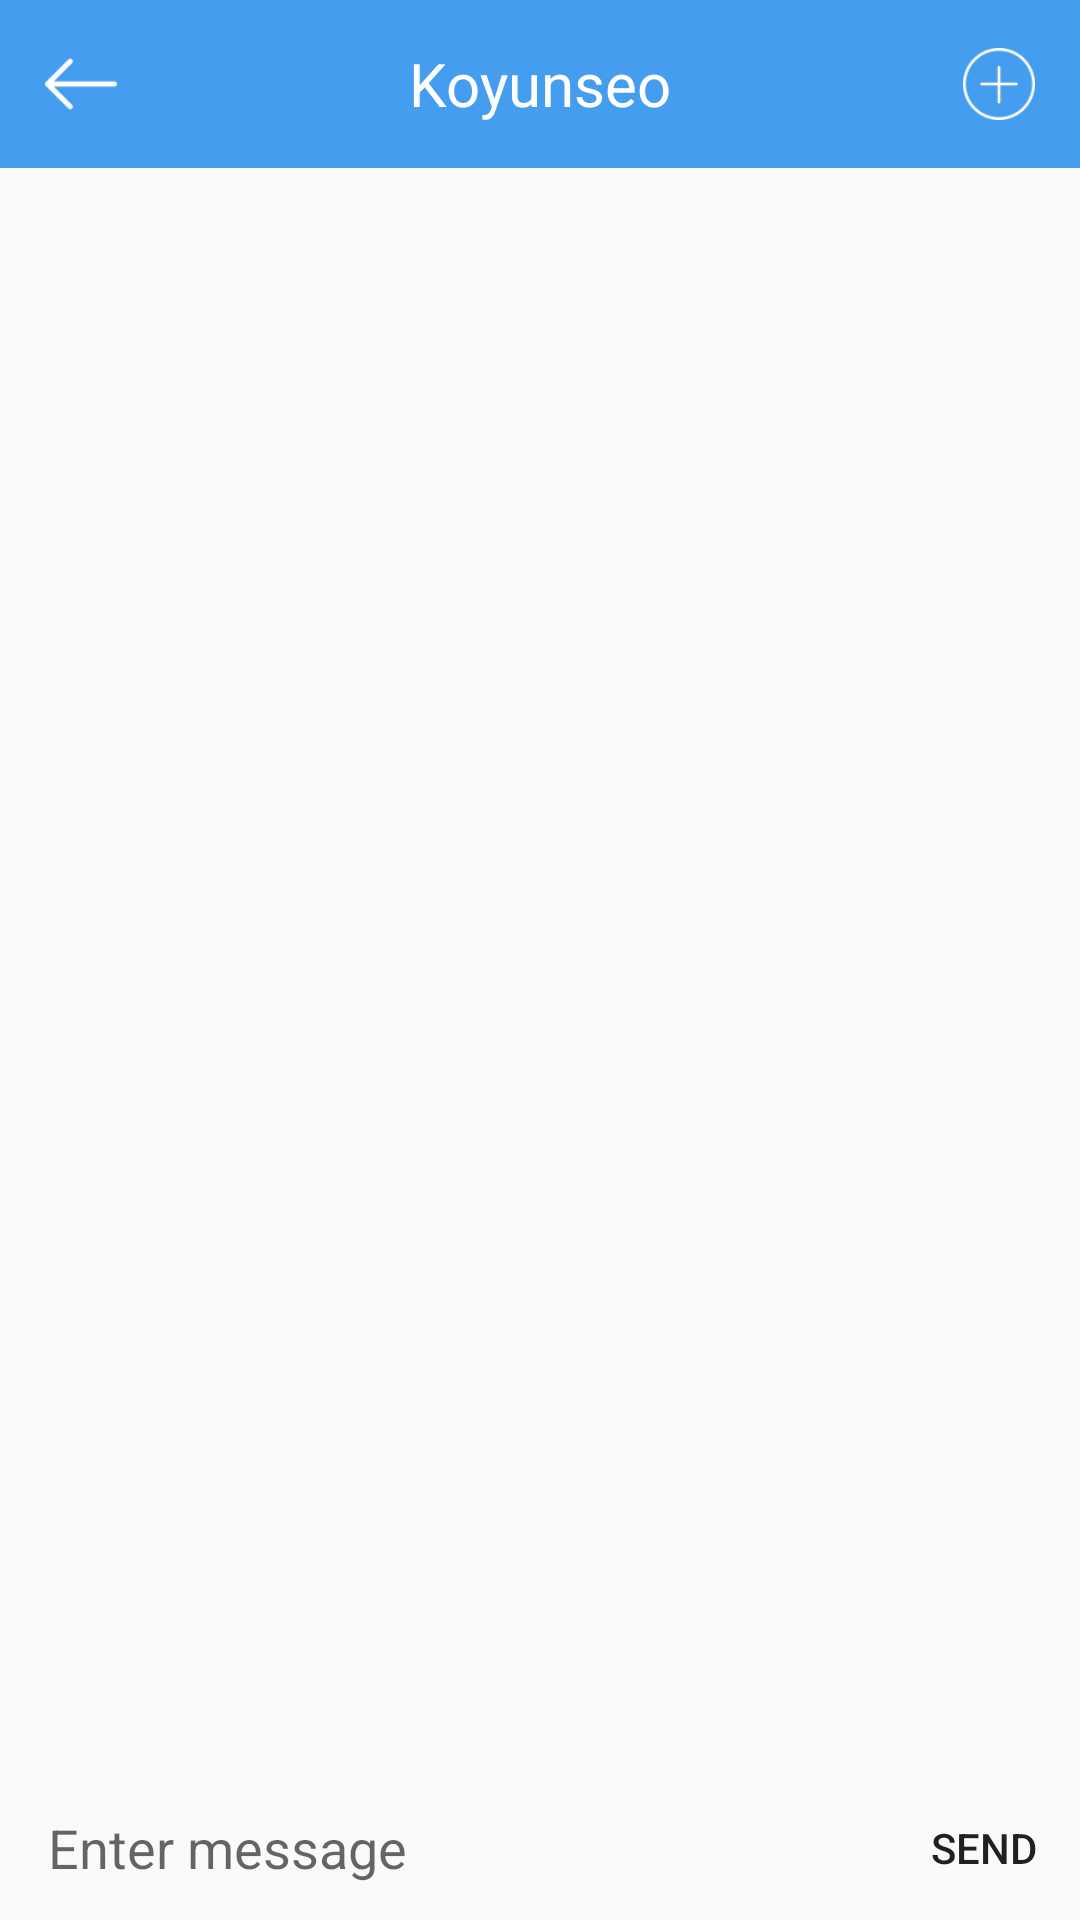

Icon click points for this 1080*1920 phone screenshot, format (x,y):
back: (81,84)
plus: (999,84)
